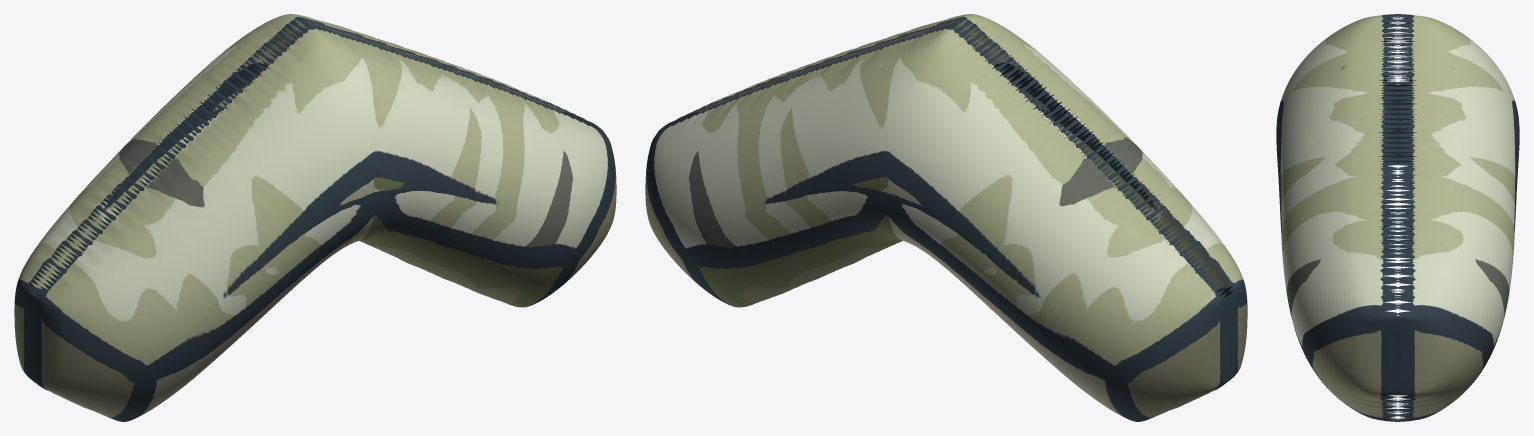
Rendered from corner_block.glb.
3 renders of one model, left to right at view 1: azimuth 30°, elevation 25°; view 2: azimuth 150°, elevation 25°; view 3: azimuth 270°, elevation 25°, orthographic. The views are drawn at different scales.
Parts seen in each view (by area): view 1: corner_block; view 2: corner_block; view 3: corner_block.
Boxes of the visible parts, x1=… form: corner_block: x1=14, y1=14, x2=616, y2=421; corner_block: x1=645, y1=14, x2=1247, y2=421; corner_block: x1=1276, y1=14, x2=1519, y2=421.
Bounding box in the file's own units: 0.989 × 0.5791 × 0.389.
Materials: 1 (1 with a texture image).
